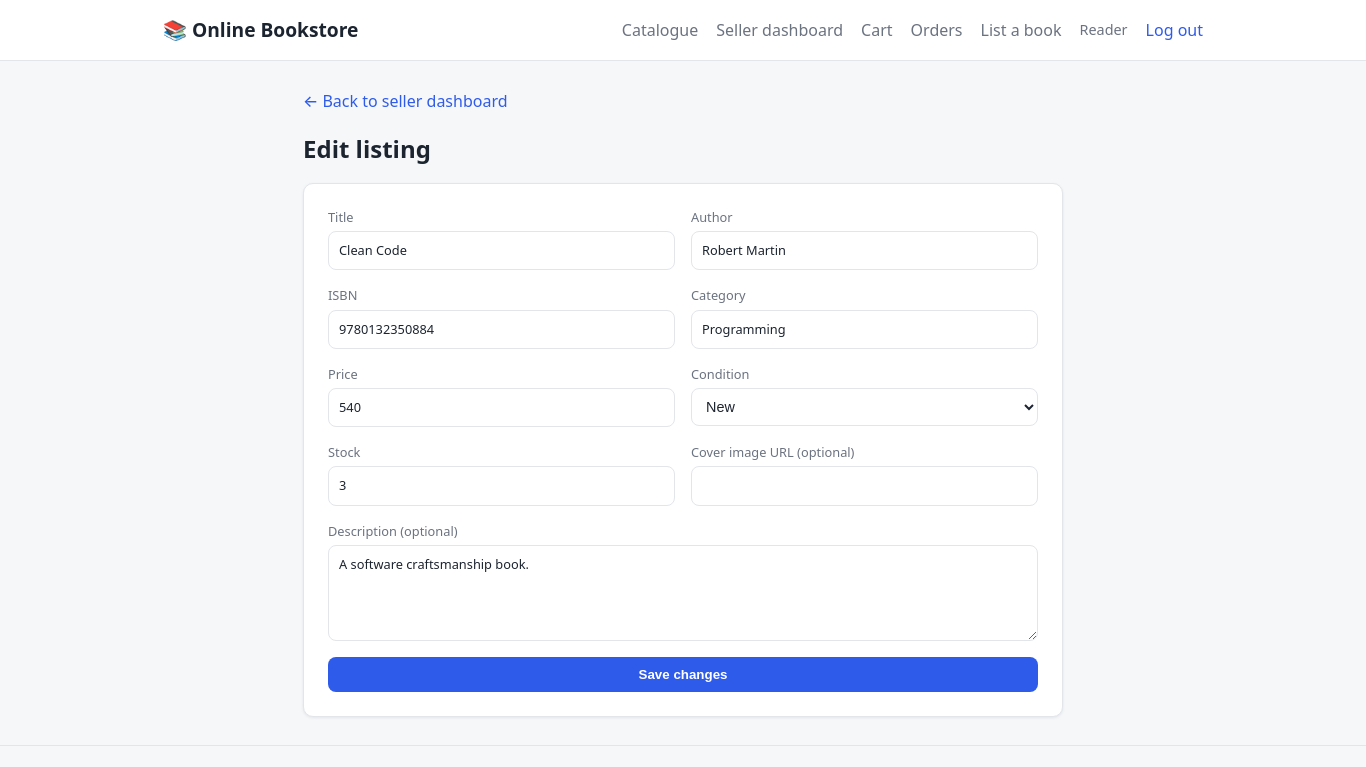
it: catalogue frontend › edits only listing fields from the seller dashboard flow
Check: the heading "Edit listing" is shown, box 303,132 -> 431,165
Replace the text in the field labelled "Title" with "Updated Title" at (502, 251), box 328,231 -> 675,270
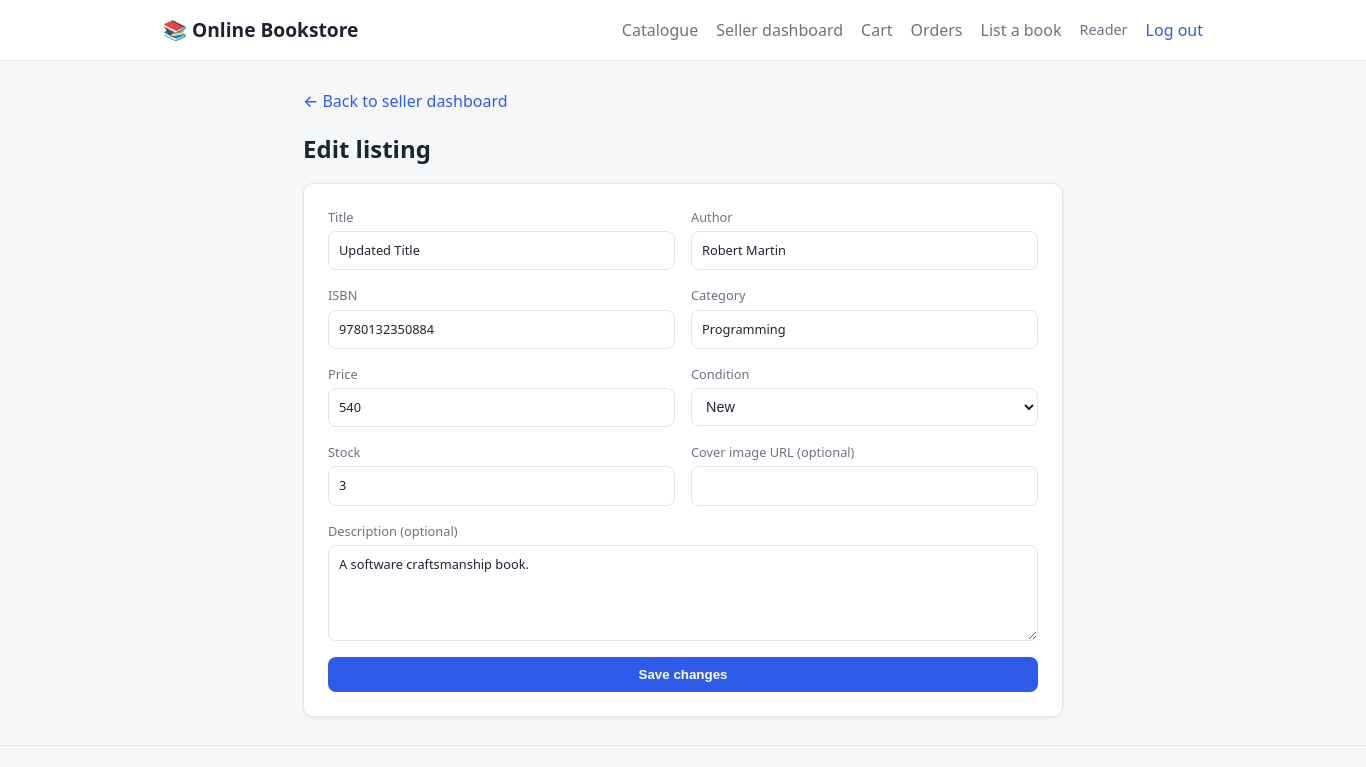
Click the button "Save changes" at (683, 675), box 328,657 -> 1038,692
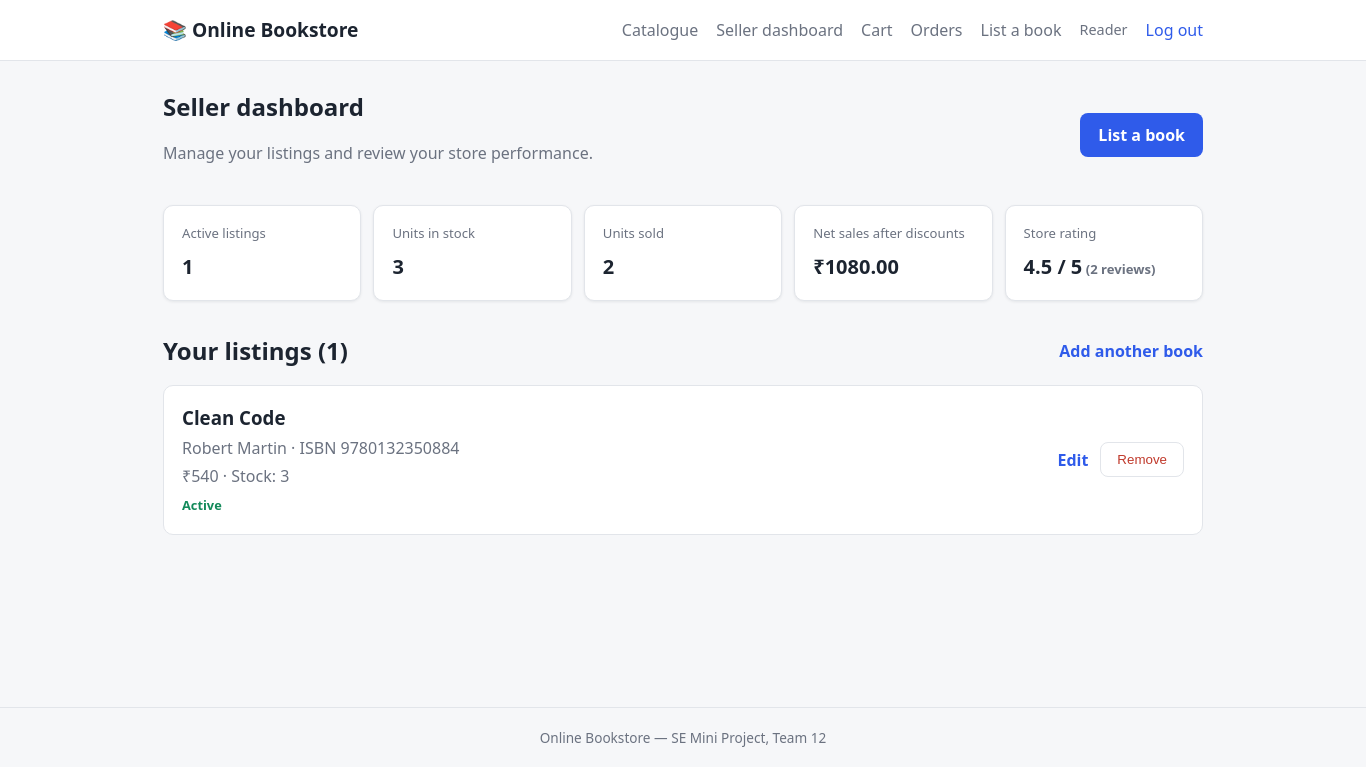
Check: the heading "Seller dashboard" is shown, box 163,90 -> 364,123
